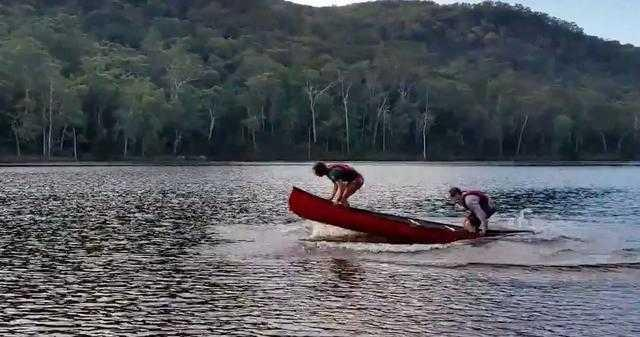kayak: (287, 185, 531, 245)
